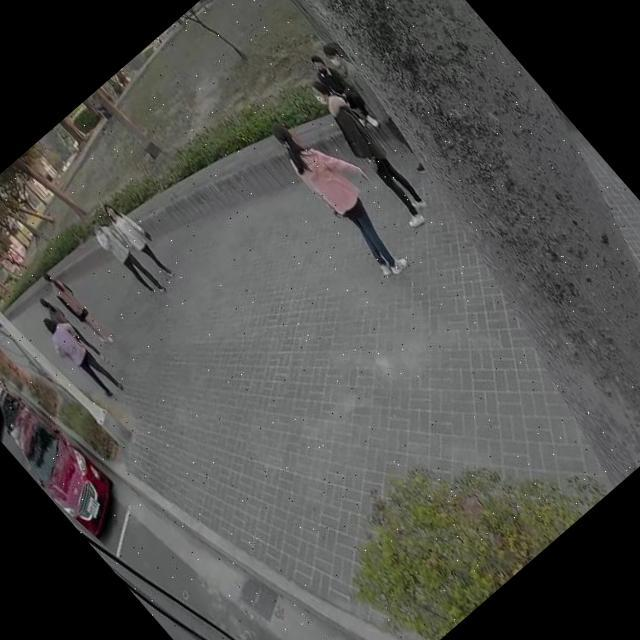person: (260, 104, 422, 282), (298, 72, 439, 228), (323, 40, 420, 148), (35, 306, 124, 402), (98, 196, 178, 284), (85, 212, 163, 298), (306, 48, 382, 132), (38, 264, 114, 348), (37, 292, 70, 326)
